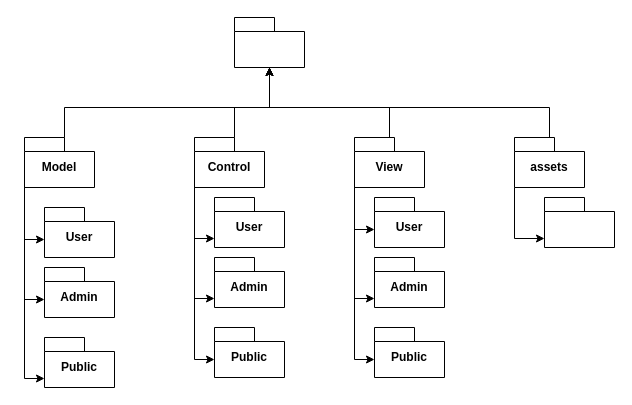
Image size: 632x405. Some labels were removed from this diagram. The shapes that lost their labels are listed below. From the top down, each one's centre as x and y in pixels, then its label:
the point at 269,42: src
the point at 579,222: img
